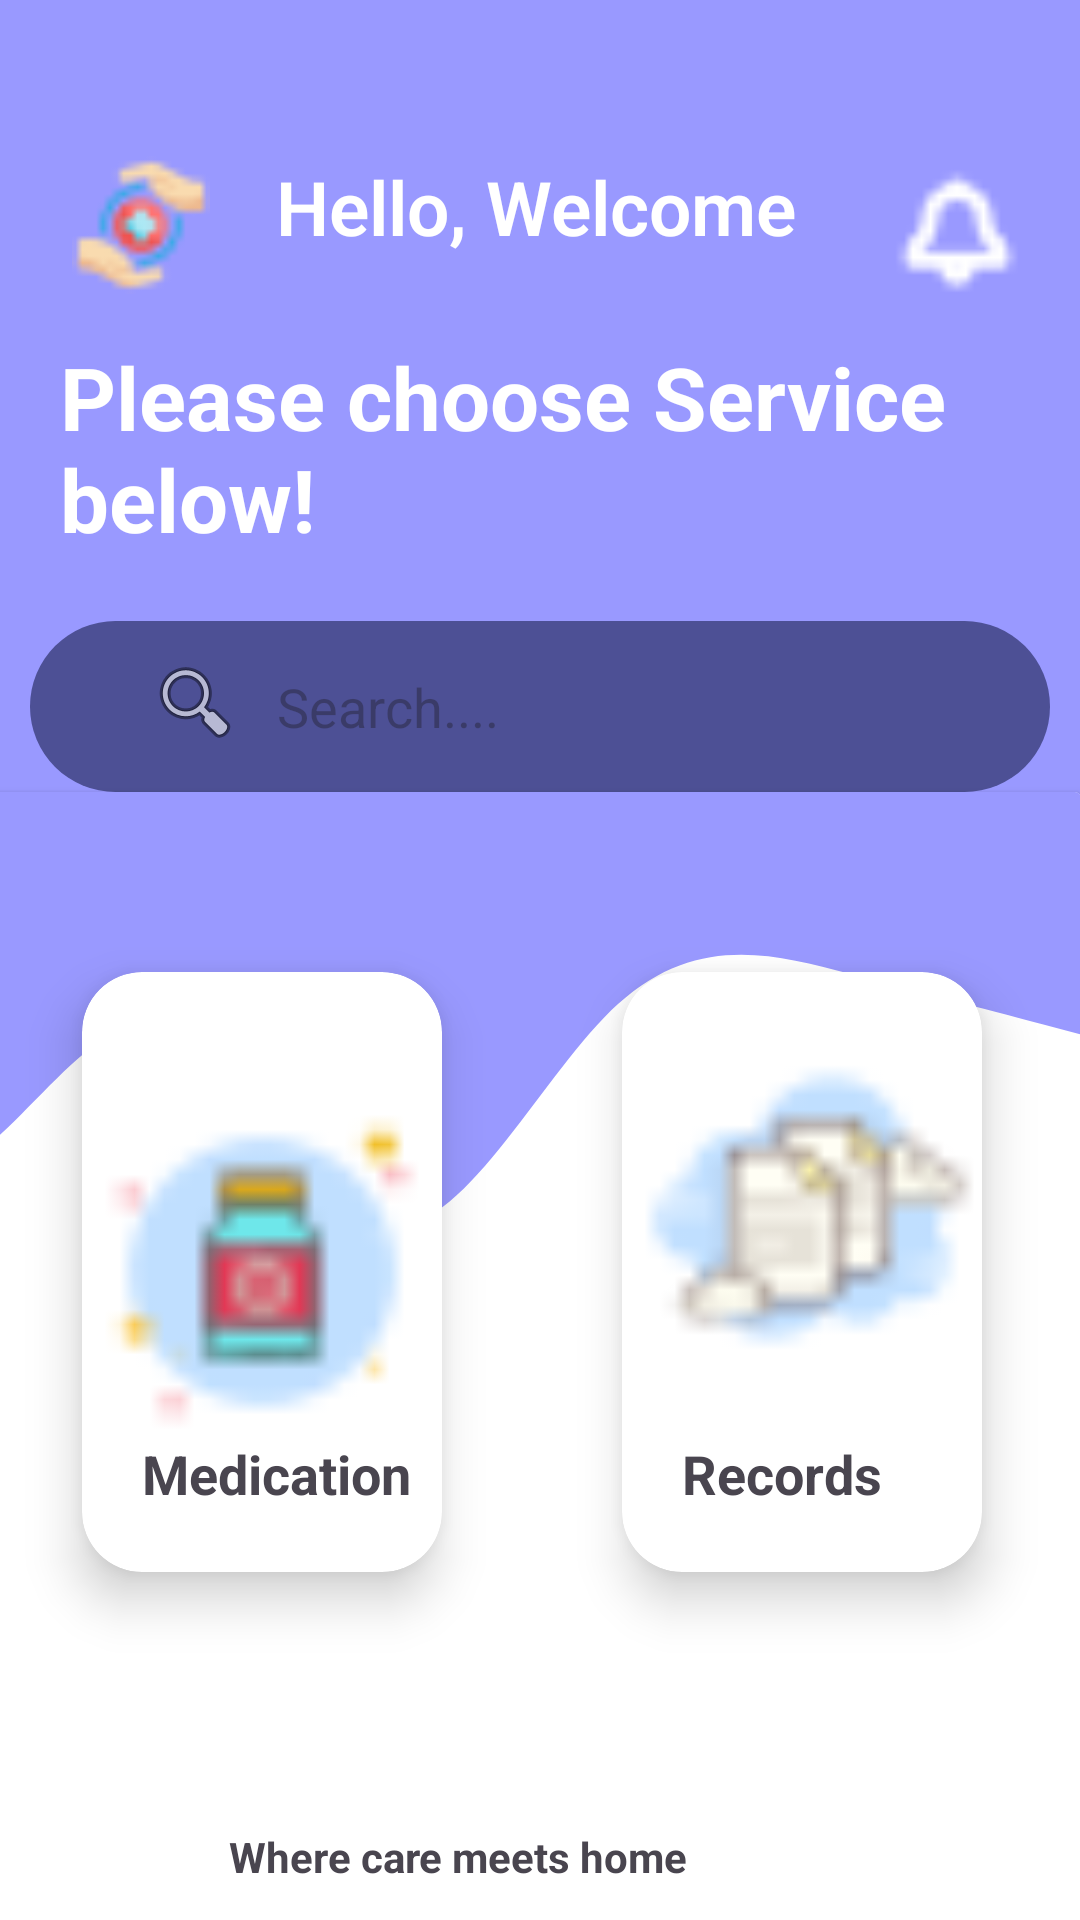

Screen size 1080x1920. Icon name, then its center in pixels as (x=x, y=y):
bell: (x=957, y=232)
